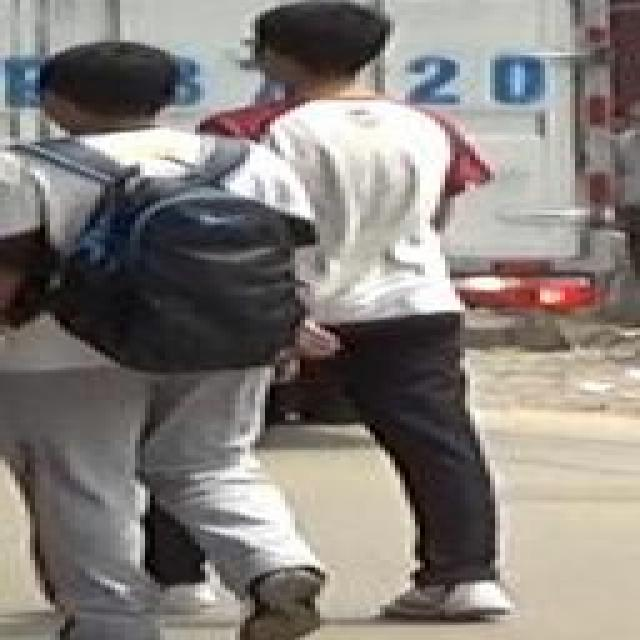adult: (205, 0, 531, 621), (0, 42, 325, 640)
